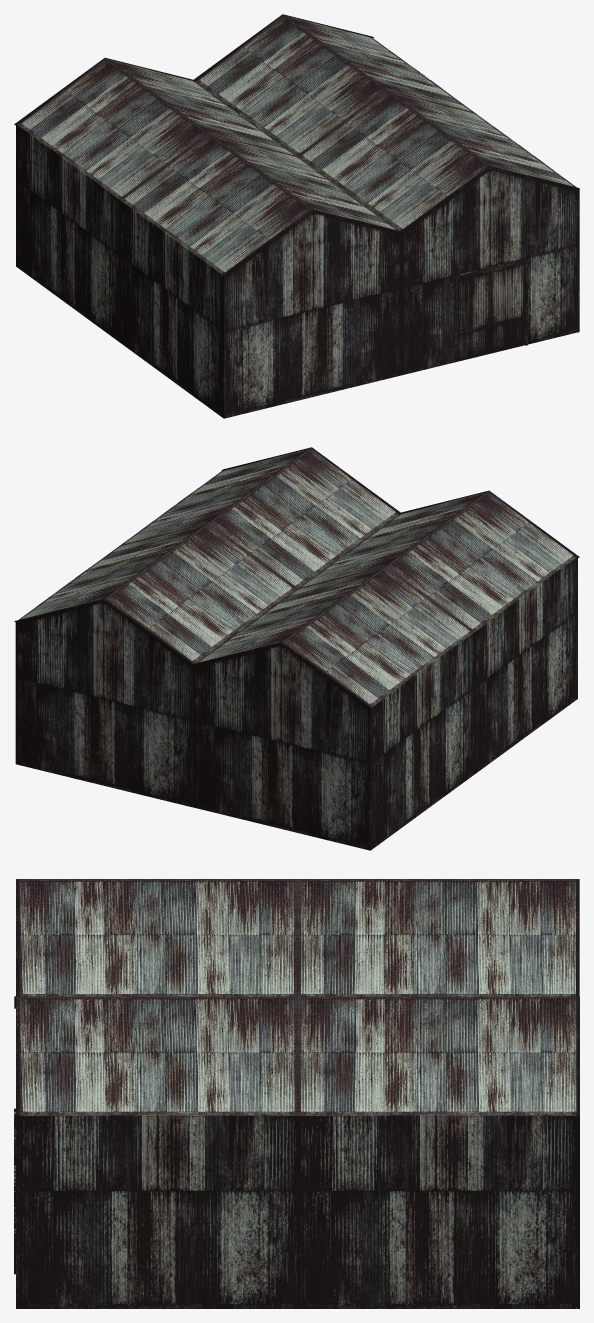
The model's file is SM_EC_Barn_02.fbx.
The picture shows the model from 3 angles, top to bottom: view 1: azimuth 30°, elevation 25°; view 2: azimuth 150°, elevation 25°; view 3: azimuth 270°, elevation 25°; orthographic projection. The views are drawn at different scales.
Parts seen in each view (by area): view 1: SM_EC_Barn_02, SM_EC_Barn_Door_04, SM_EC_Barn_Door_05; view 2: SM_EC_Barn_02; view 3: SM_EC_Barn_02.
Part boxes in pixels (x1=…): SM_EC_Barn_02: x1=14, y1=14, x2=579, y2=418; SM_EC_Barn_Door_04: x1=490, y1=261, x2=524, y2=353; SM_EC_Barn_Door_05: x1=456, y1=270, x2=490, y2=361; SM_EC_Barn_02: x1=14, y1=447, x2=579, y2=850; SM_EC_Barn_02: x1=14, y1=879, x2=579, y2=1308.
Bounding box in the file's own units: 15.32 × 15.43 × 7.62.
